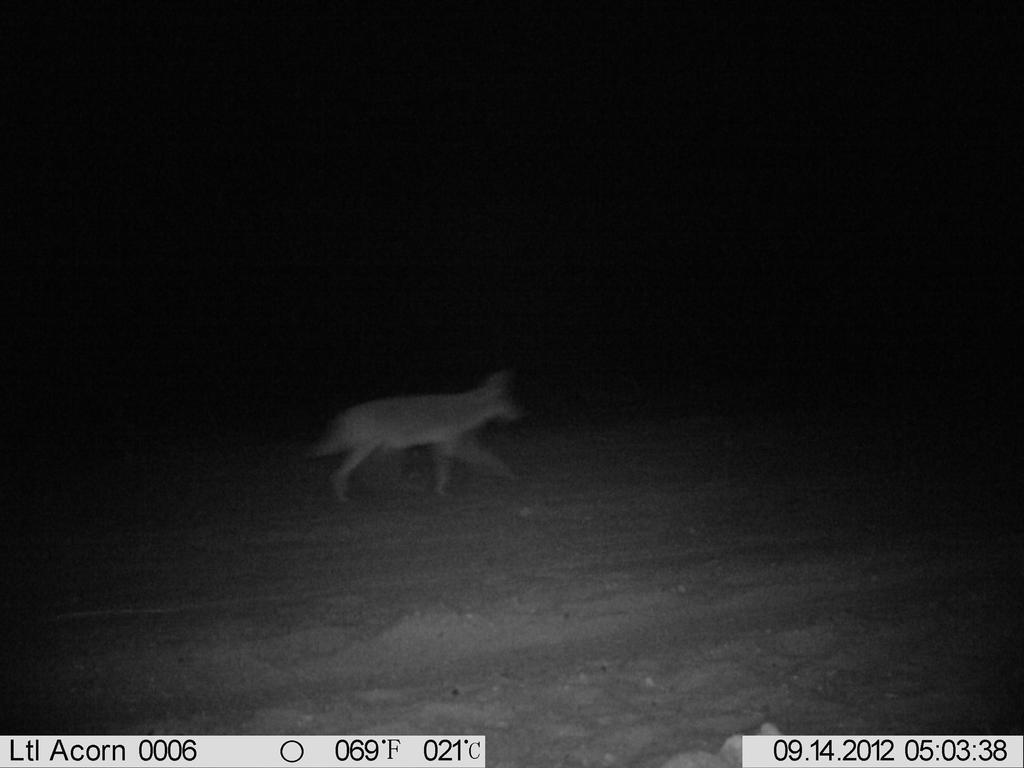coyote: (287, 357, 548, 519)
